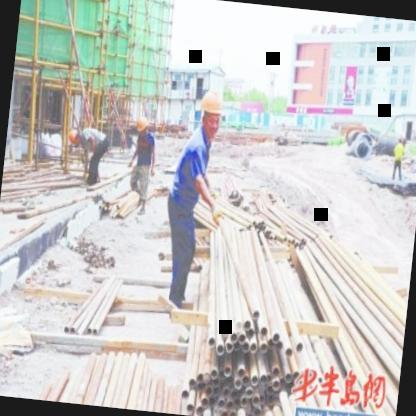helmet: (194, 80, 225, 142), (62, 122, 82, 148), (134, 112, 151, 136)
